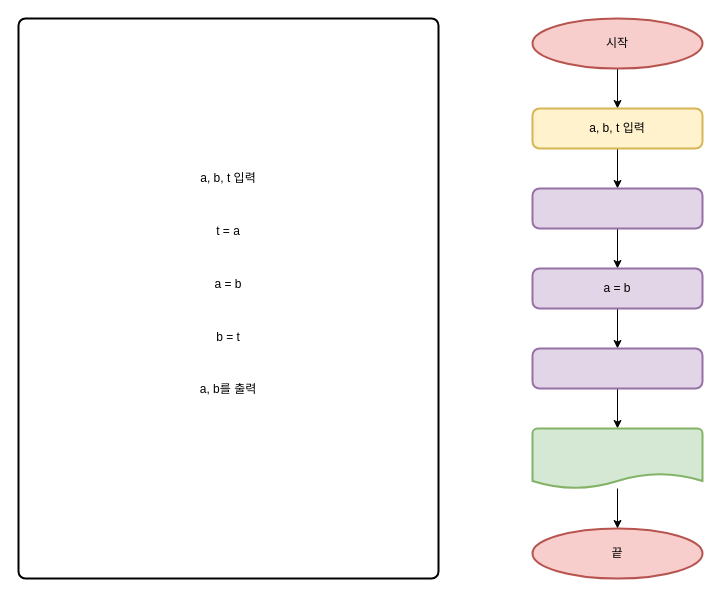
The diagram is 720 pixels wide and 596 high, and some of its shapes have lost their labels. The shapes that lost their labels are listed below. From the top down, each one's centre as x and y in pixels, then its label:
At pixel 617 208: "t = a".
At pixel 617 368: "b = t".
At pixel 617 458: "a, b".
